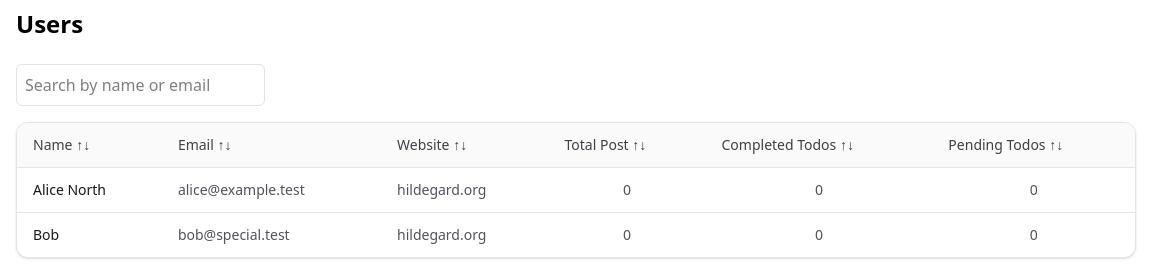
Scenario: Users list › filters by search
Check: the cell "Alice North" is shown, box [17, 168, 162, 212]
Step 1. Type "special" into the field with placeholder "Search by name or email" → coordinates (140, 85), box [16, 64, 265, 106]
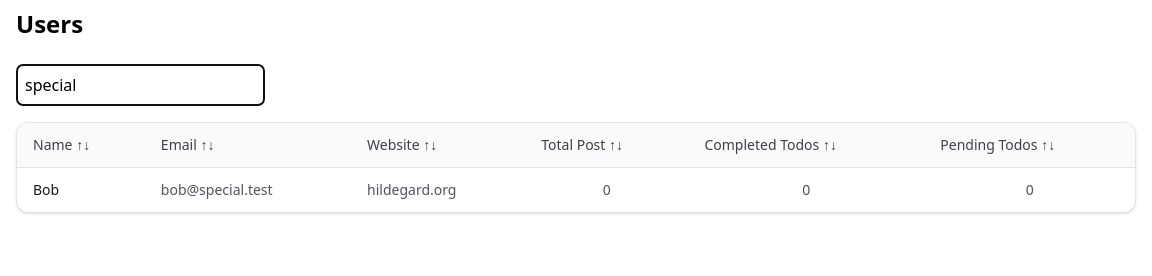
Check: the cell "Bob" is shown, box [17, 168, 145, 212]
Check: the cell "Alice North" is gone
